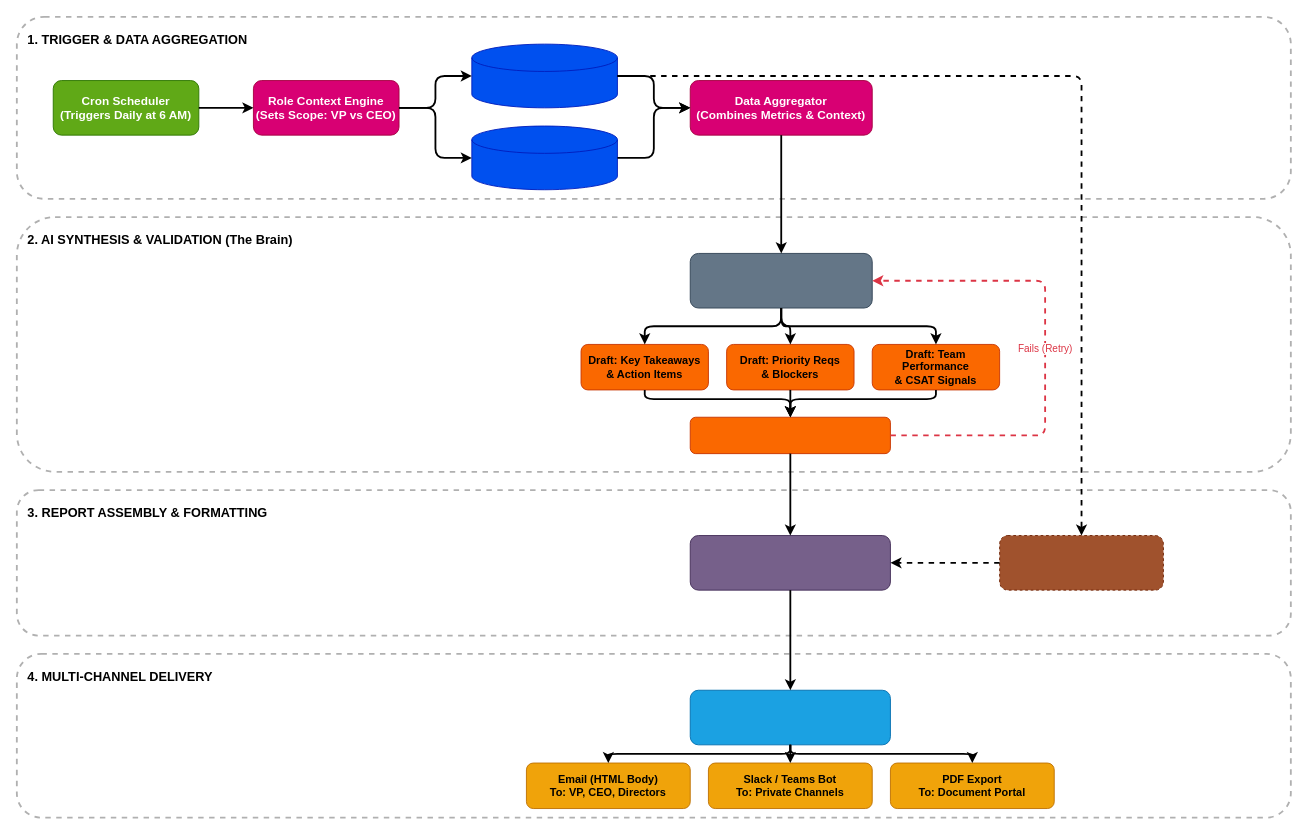
Image size: 1307x834. Some labels were removed from this diagram. Each missing label, with the centre of its shape:
"Distribution Gateway (Prepares Attachments & Links)" belongs at pixel 789 717.
"Judge LLM Validator (Verifies Numbers & Fact-Checks)" belongs at pixel 789 435.
"Prompt Compiler (Injects Data into AI Prompt)" belongs at pixel 780 280.
"Raw Tables & Pipeline Data (Bypasses AI)" belongs at pixel 1081 562.
"Report Template Engine (Injects text into Newsletter Layout)" belongs at pixel 789 562.
"Structured Data (DB) (KPIs, Pipeline, CSAT)" belongs at pixel 544 75.
"Unstructured Data (Vector) (Emails, Notes, Slack)" belongs at pixel 544 157.
